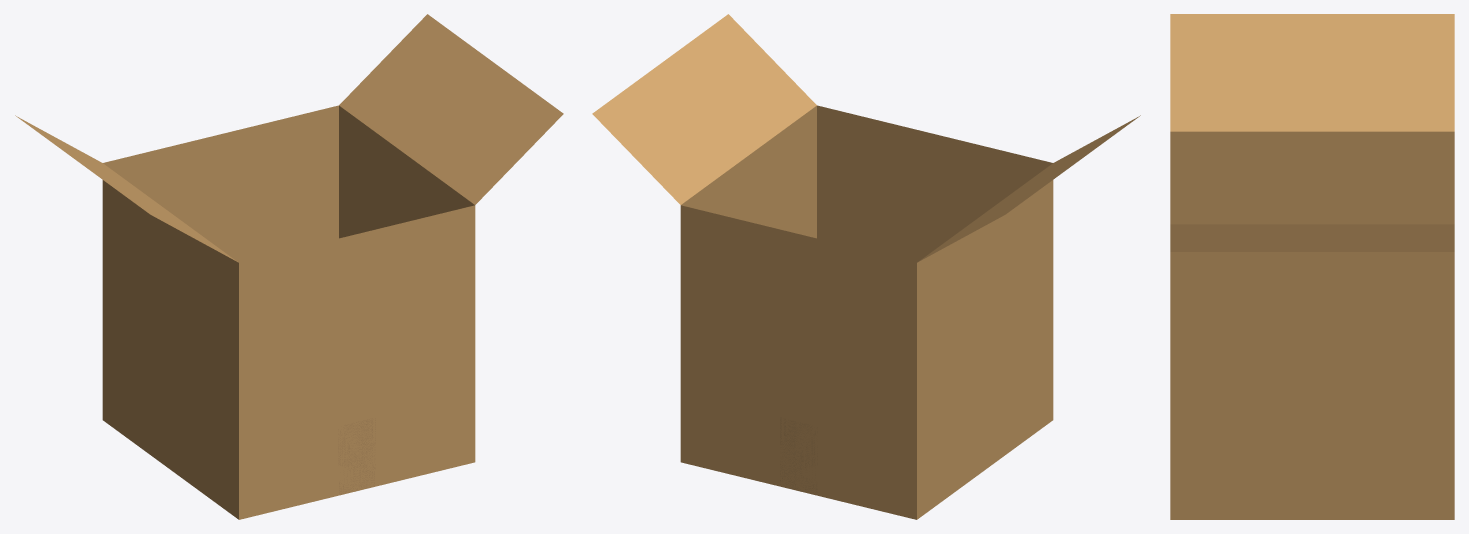
File: cardboardBoxOpen.obj
3 views of the same model, side by side, from view 1: azimuth 30°, elevation 25°; view 2: azimuth 150°, elevation 25°; view 3: azimuth 270°, elevation 25° (orthographic). The views are drawn at different scales.
Parts seen in each view (by area): view 1: cardboardBoxOpen; view 2: cardboardBoxOpen; view 3: cardboardBoxOpen.
Part boxes in pixels (x1,y1,x2,y2): cardboardBoxOpen: [15, 14, 563, 519]; cardboardBoxOpen: [592, 14, 1140, 519]; cardboardBoxOpen: [1170, 14, 1454, 519].
Bounding box in the file's own units: 3.72 × 2.81 × 2.13.
